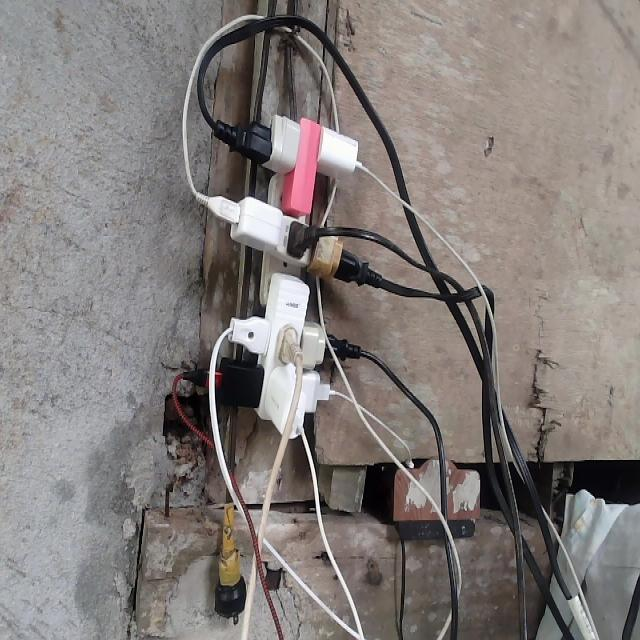-: (215, 109, 360, 436)
